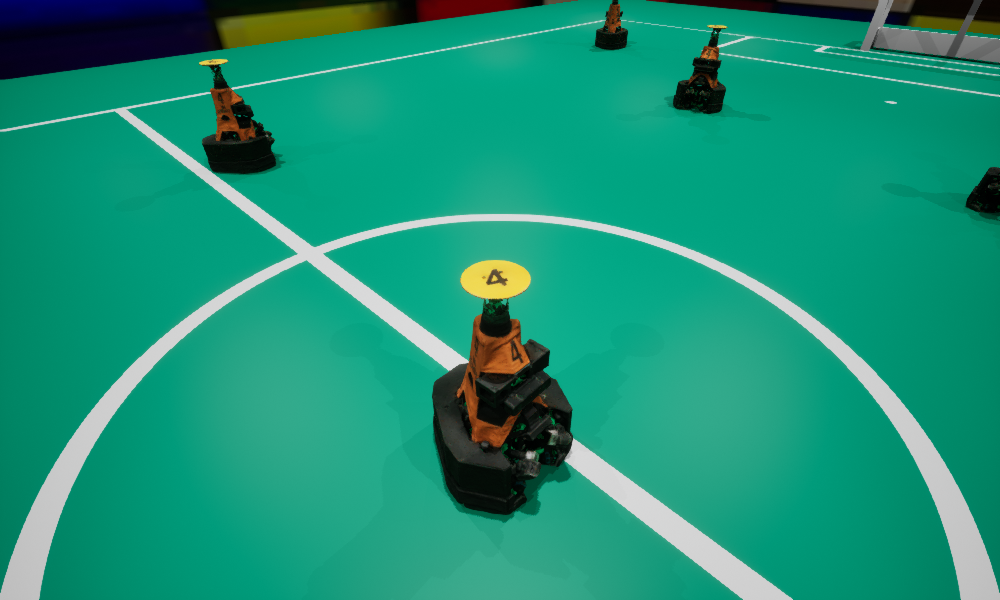o: (432, 260, 572, 514), (199, 59, 275, 173), (673, 25, 727, 112), (595, 0, 627, 49), (966, 167, 999, 212)
